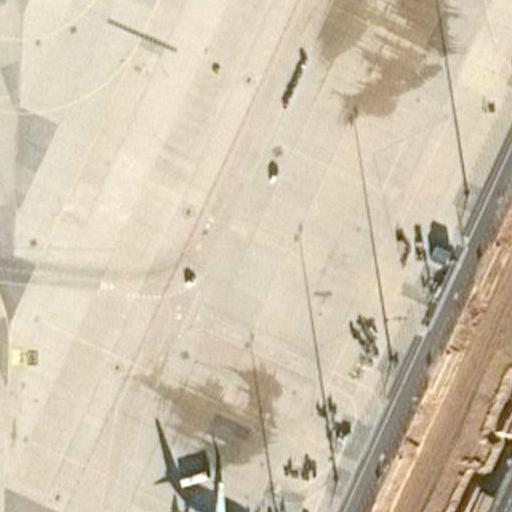Aircraft: (158, 467, 260, 512), (159, 469, 261, 512)
